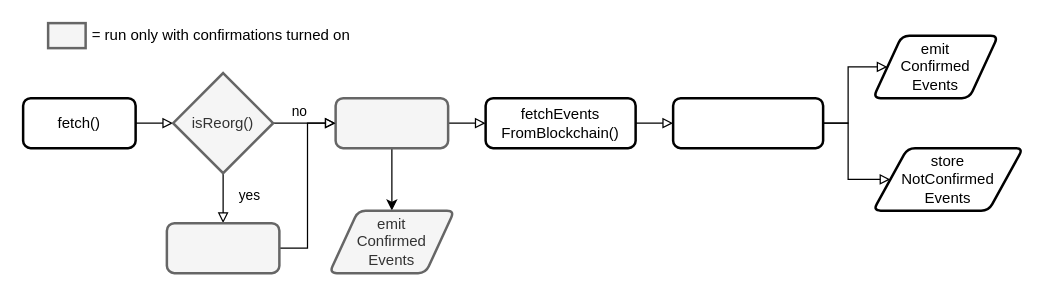
This 1045x295 diagram has some shape labels left out. Here are the shapes that lost their labels. From the top down, the centre of each, then its label:
the point at 391,122: confirmation Routine()
the point at 747,122: processEvents()
the point at 222,247: handleReorg()
